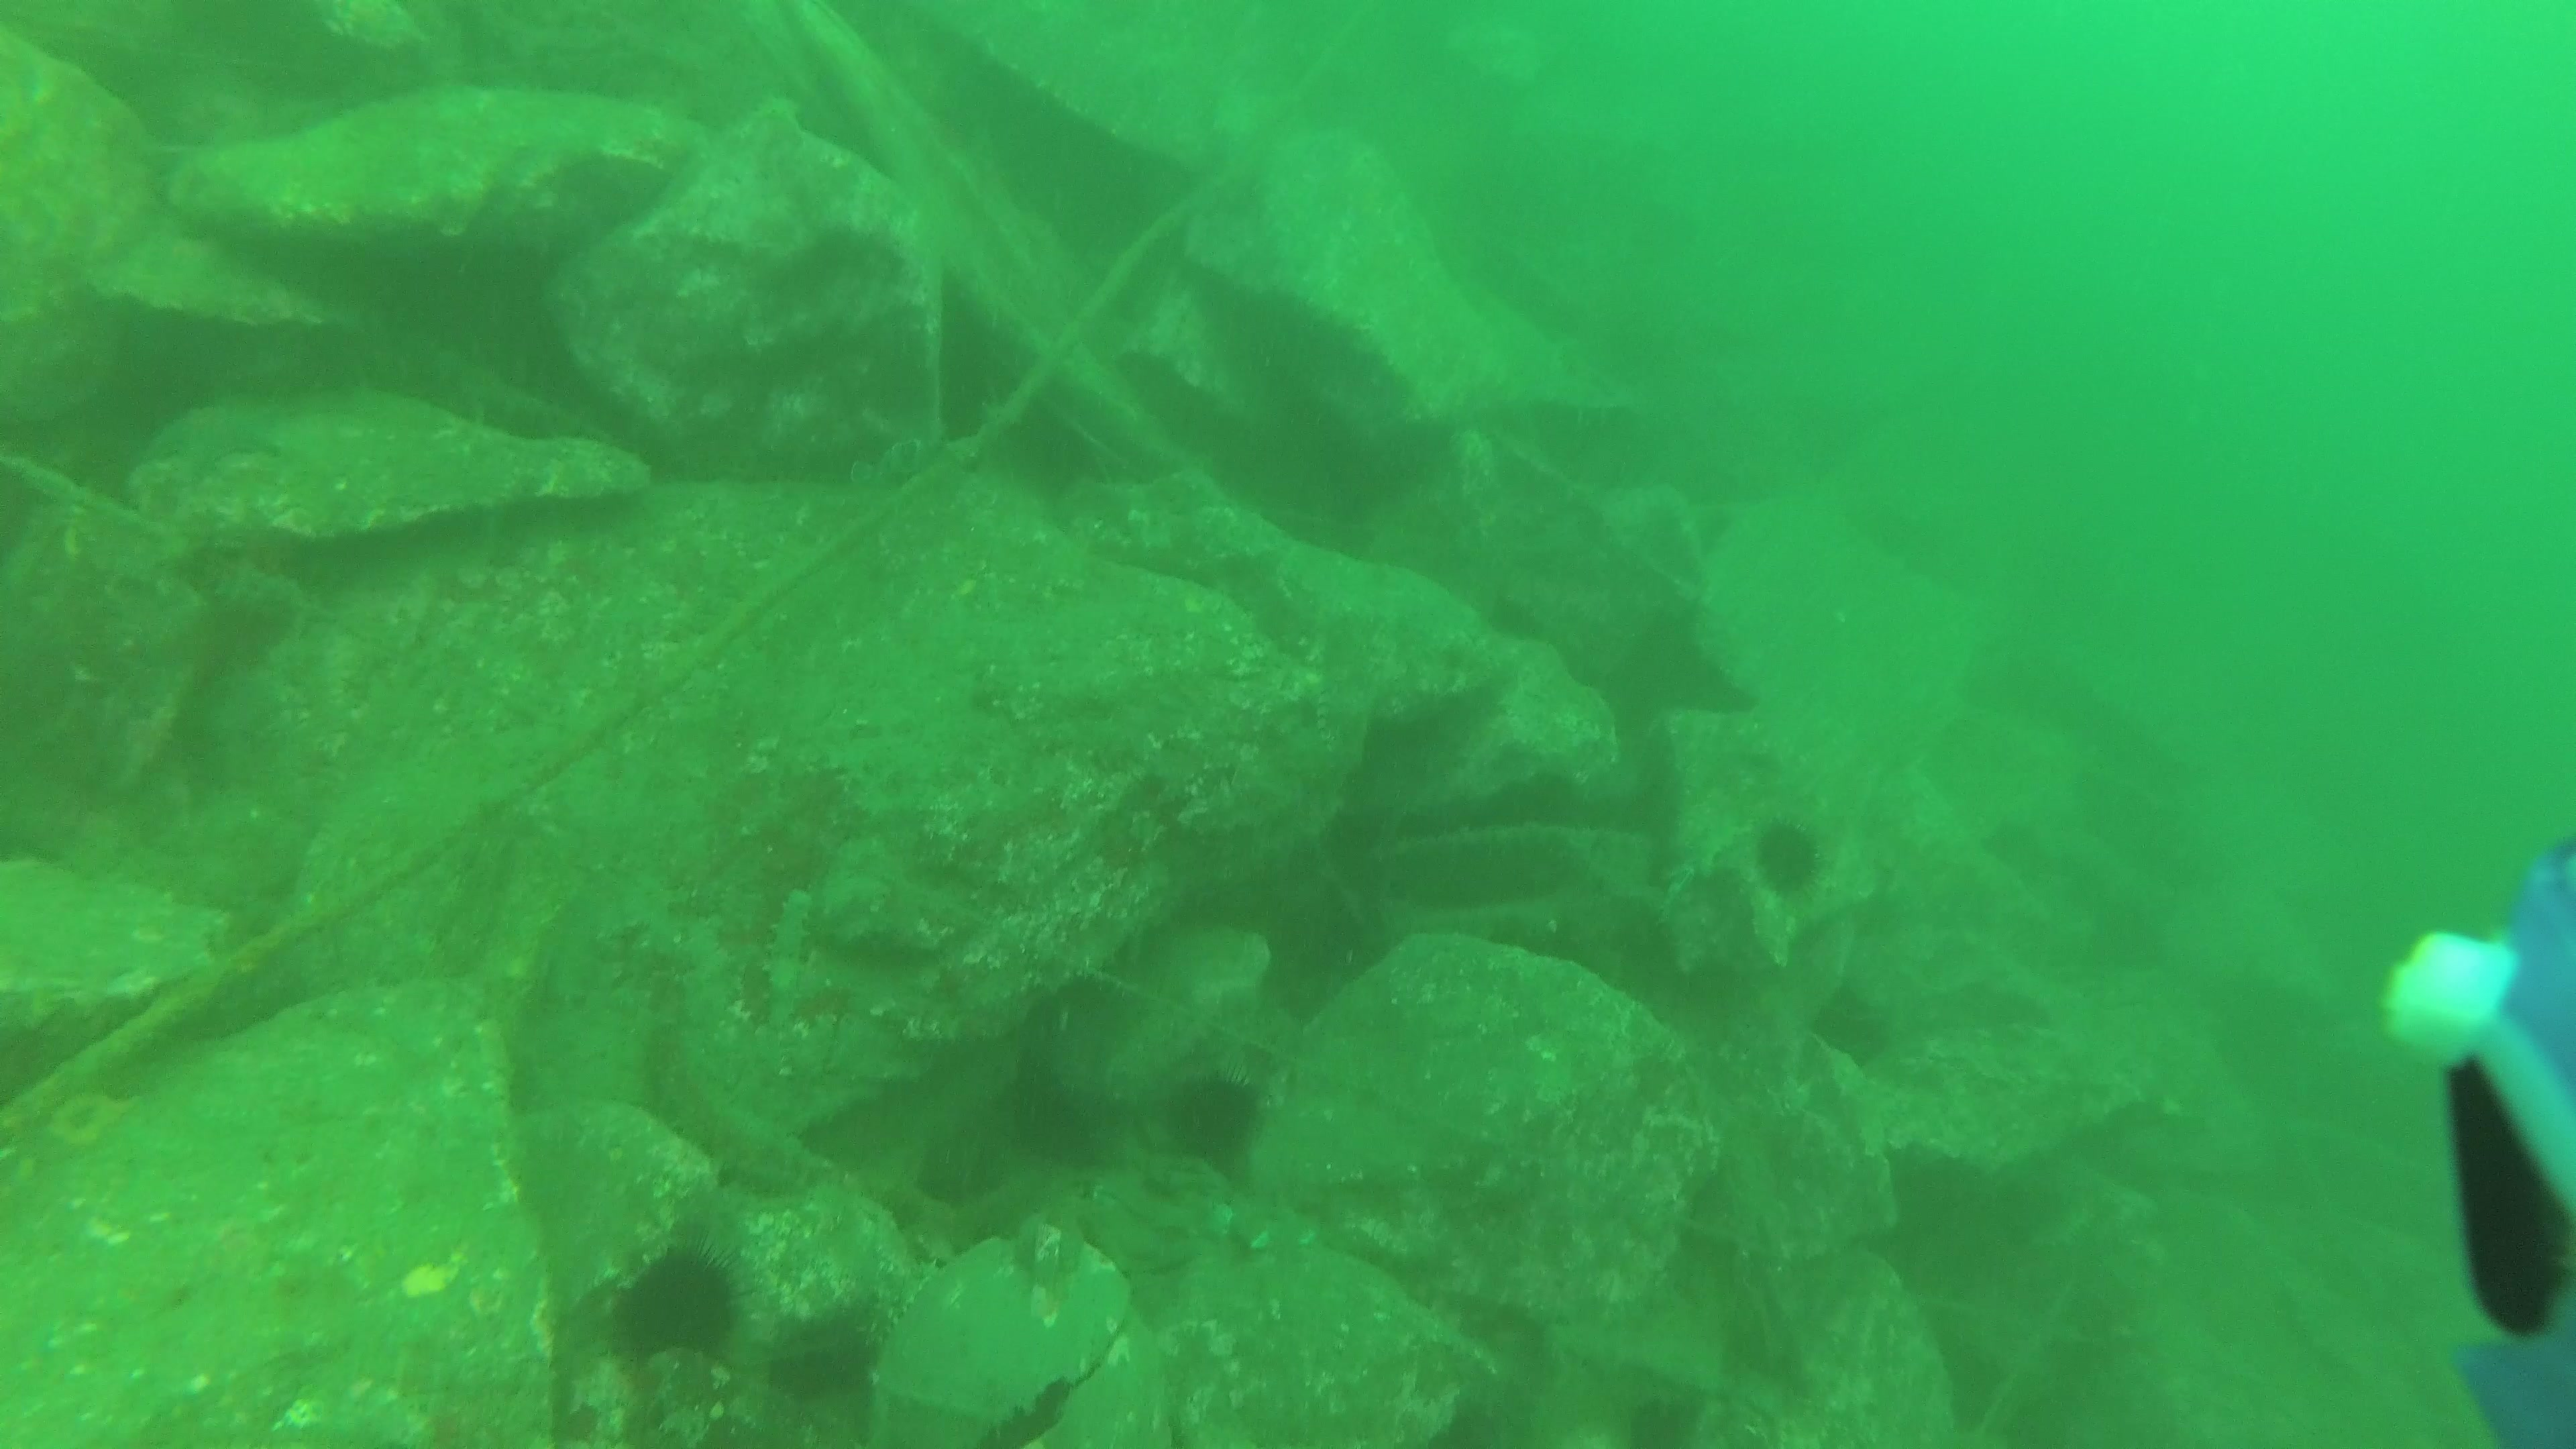echinus: (600, 1238, 752, 1371), (1159, 1062, 1261, 1178), (1746, 809, 1829, 906)
